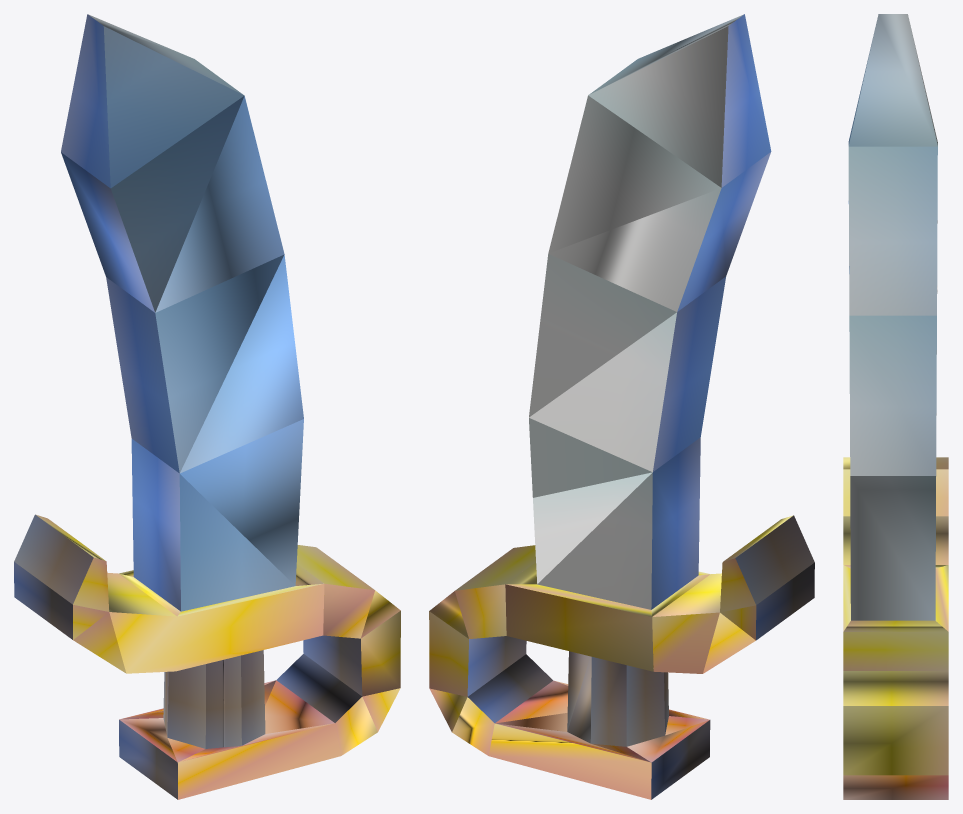
The model's file is sword03.fbx.
3 views of the same model, side by side, from view 1: azimuth 30°, elevation 25°; view 2: azimuth 150°, elevation 25°; view 3: azimuth 270°, elevation 25° (orthographic). The views are drawn at different scales.
Visible parts, largest first — view 1: sword03; view 2: sword03; view 3: sword03.
Boxes of the visible parts, left/top/right/bottom form: sword03: left=14, top=14, right=400, bottom=799; sword03: left=429, top=14, right=814, bottom=799; sword03: left=843, top=14, right=948, bottom=799.
Size of the model in its own units: 64.41 by 145 by 20.
